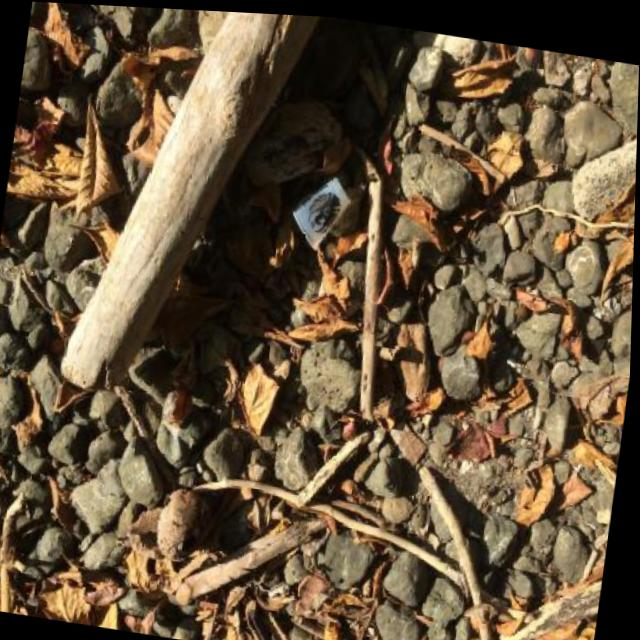cardboard: (287, 171, 352, 257)
